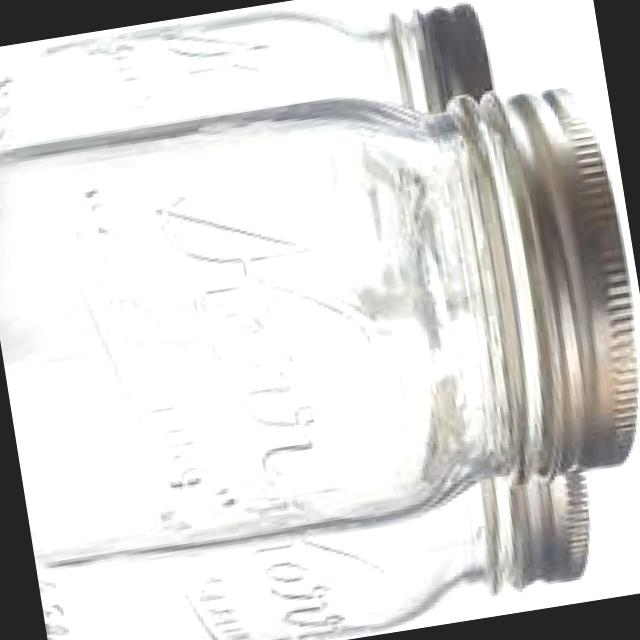metal: (501, 91, 638, 475), (510, 474, 589, 589), (420, 5, 491, 110)
